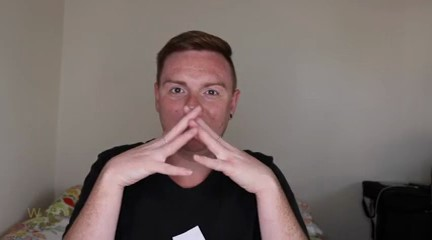W: (116, 99, 277, 200)
